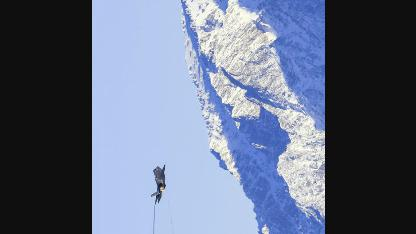F22: (150, 162, 164, 206)
